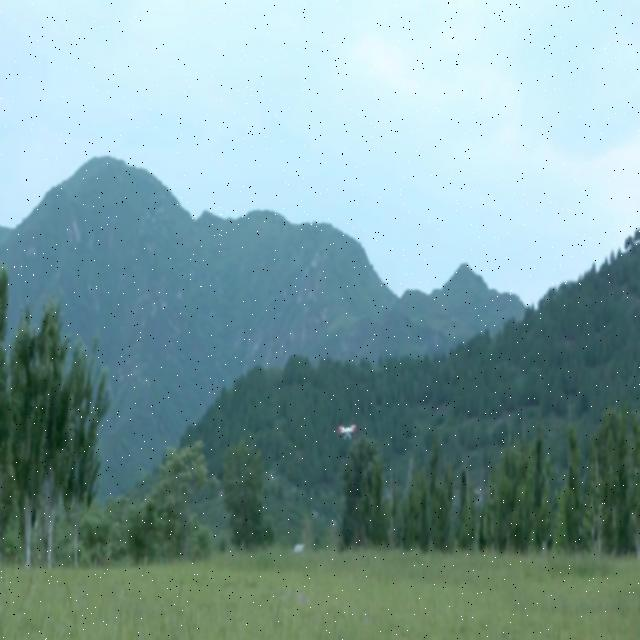UAV: (337, 424, 357, 440)
